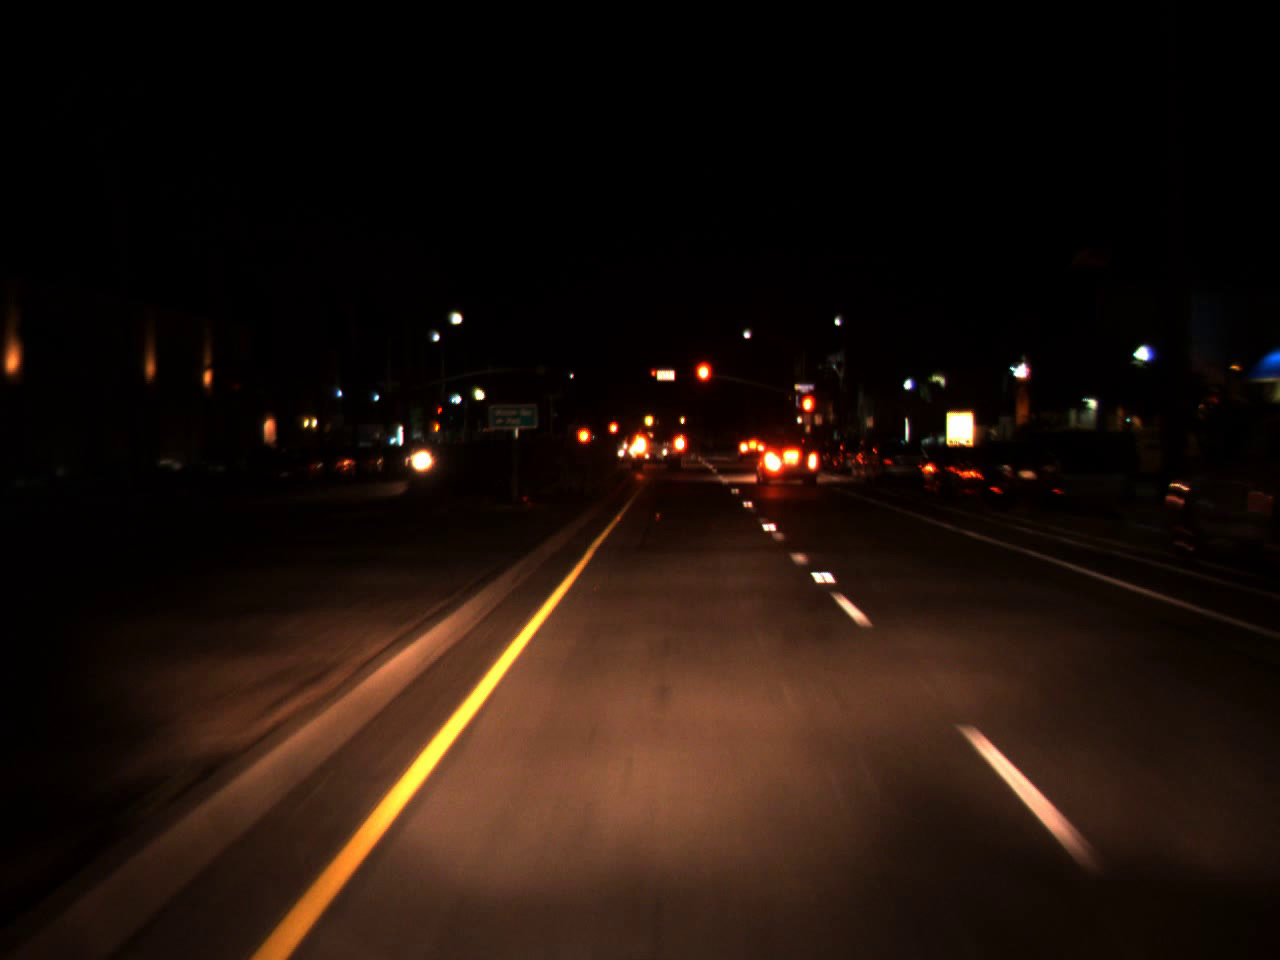stop: (693, 358, 714, 403), (799, 392, 817, 435), (437, 406, 443, 422), (651, 369, 657, 382)
